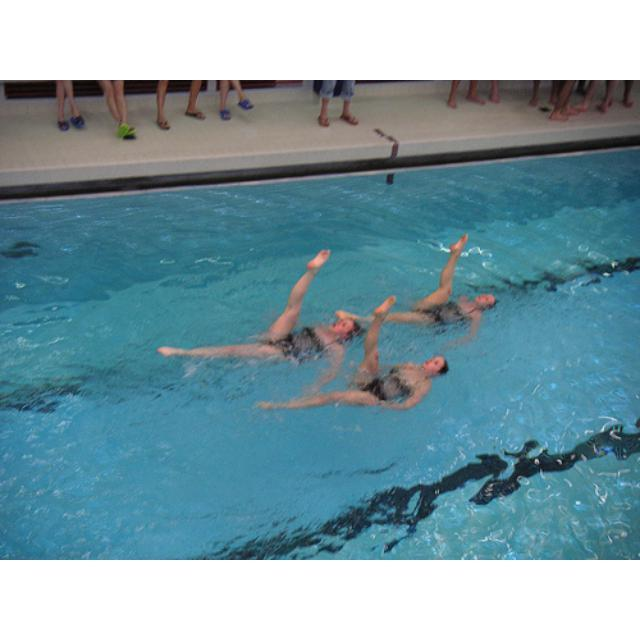human: (159, 250, 361, 367), (257, 299, 451, 410), (369, 233, 497, 320)
